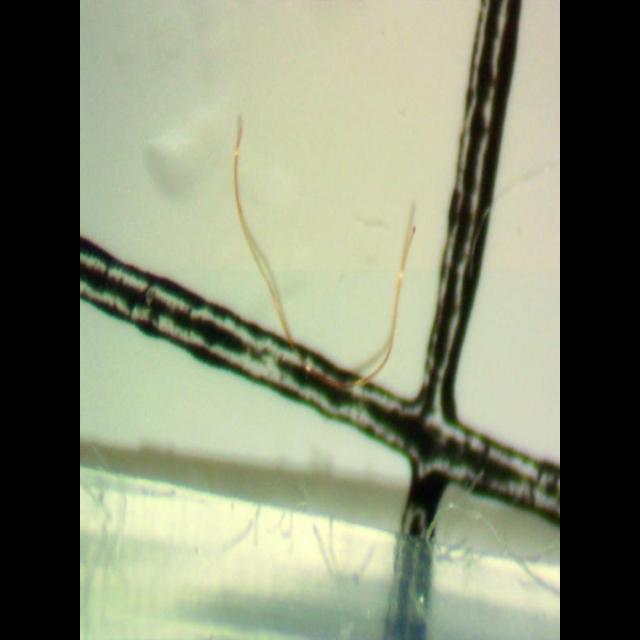Fibre: (228, 108, 420, 398)
